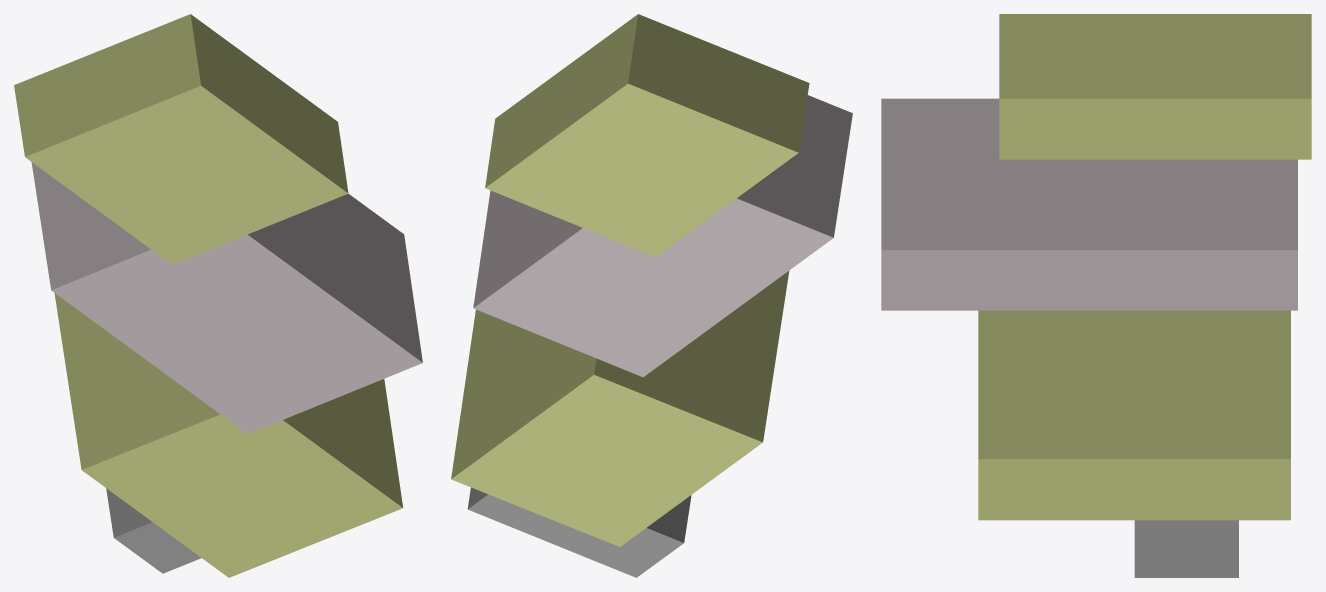
3 renders of one model, left to right at view 1: azimuth 30°, elevation 25°; view 2: azimuth 150°, elevation 25°; view 3: azimuth 270°, elevation 25°, orthographic. The views are drawn at different scales.
Parts seen in each view (by area): view 1: 0_1_2_0_3_1_3_2_1_3; view 2: 0_1_2_0_3_1_3_2_1_3; view 3: 0_1_2_0_3_1_3_2_1_3.
Part boxes in pixels (x1,y1,x2,y2): 0_1_2_0_3_1_3_2_1_3: (14, 14, 422, 577); 0_1_2_0_3_1_3_2_1_3: (451, 14, 852, 577); 0_1_2_0_3_1_3_2_1_3: (881, 14, 1311, 577).
Size of the model in its own units: 8.44 by 15.88 by 12.4.
